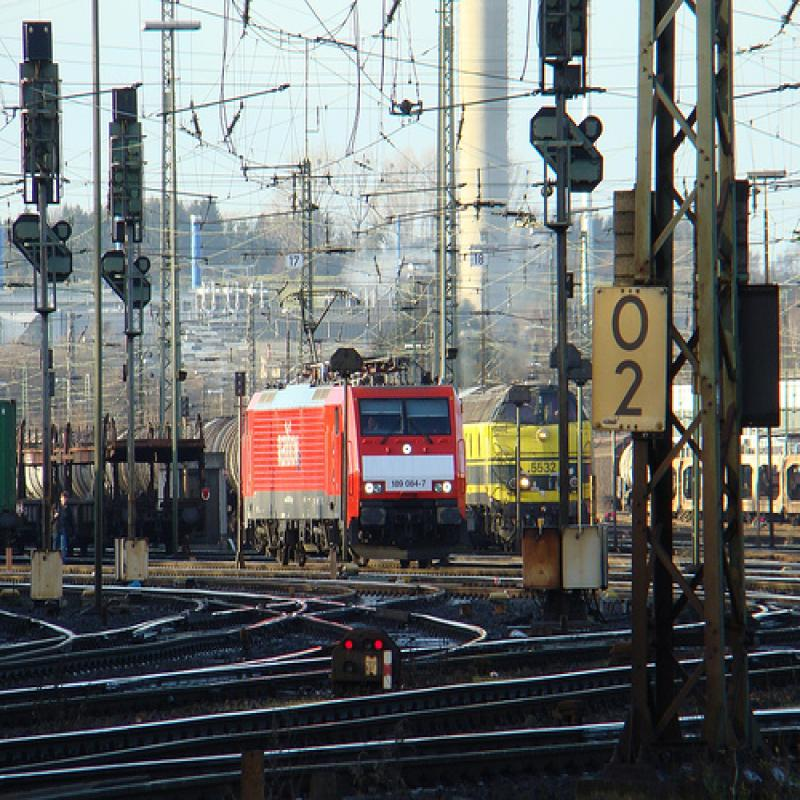train: (12, 359, 468, 557), (459, 377, 592, 555), (605, 436, 800, 523)
